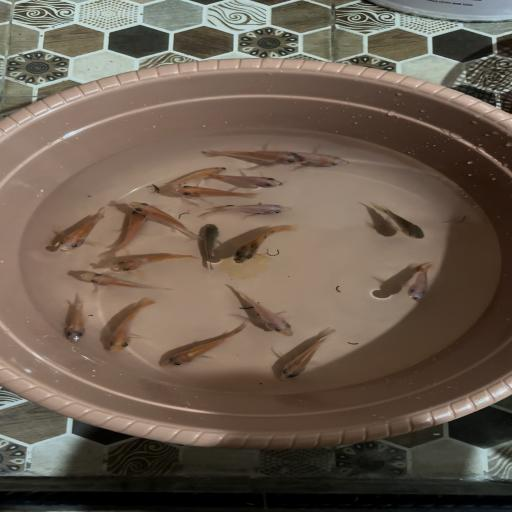nila: (151, 318, 254, 376), (269, 323, 343, 388), (223, 283, 300, 338), (95, 297, 163, 353), (232, 223, 308, 272), (43, 207, 113, 256), (91, 208, 149, 266), (132, 197, 204, 242), (194, 143, 310, 170), (363, 200, 434, 244), (387, 258, 444, 307), (106, 250, 202, 278), (149, 160, 228, 194), (62, 271, 178, 294), (274, 148, 361, 176), (188, 221, 231, 271), (54, 293, 93, 347), (211, 170, 289, 194), (196, 202, 306, 219), (167, 185, 259, 204)
